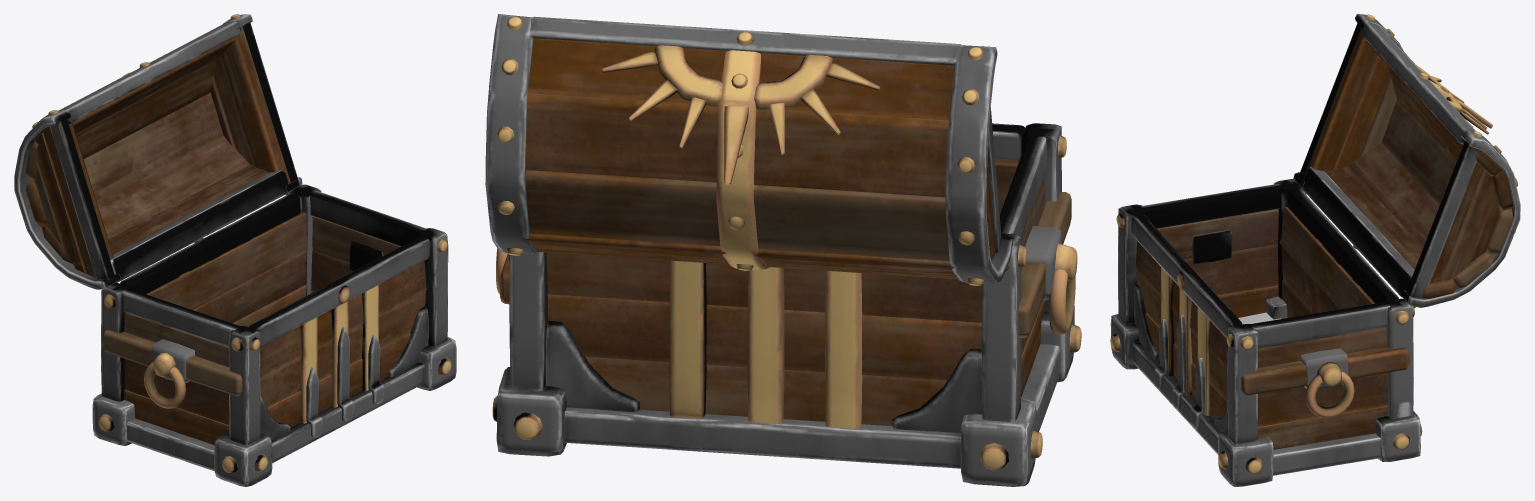
File: GuildChest.fbx
3 renders of one model, left to right at view 1: azimuth 30°, elevation 25°; view 2: azimuth 150°, elevation 25°; view 3: azimuth 270°, elevation 25°, orthographic. The views are drawn at different scales.
Parts seen in each view (by area): view 1: ChestMain, ChestTop; view 2: ChestTop, ChestMain; view 3: ChestMain, ChestTop.
Boxes of the visible parts, x1,y1,x2,y2 form: ChestMain: [92, 184, 456, 486]; ChestTop: [14, 14, 302, 289]; ChestTop: [485, 14, 1012, 285]; ChestMain: [492, 123, 1081, 486]; ChestMain: [1110, 179, 1422, 486]; ChestTop: [1293, 14, 1520, 308].
Size of the model in its own units: 5.89 by 4.75 by 5.75.
1 material, 1 textured.
